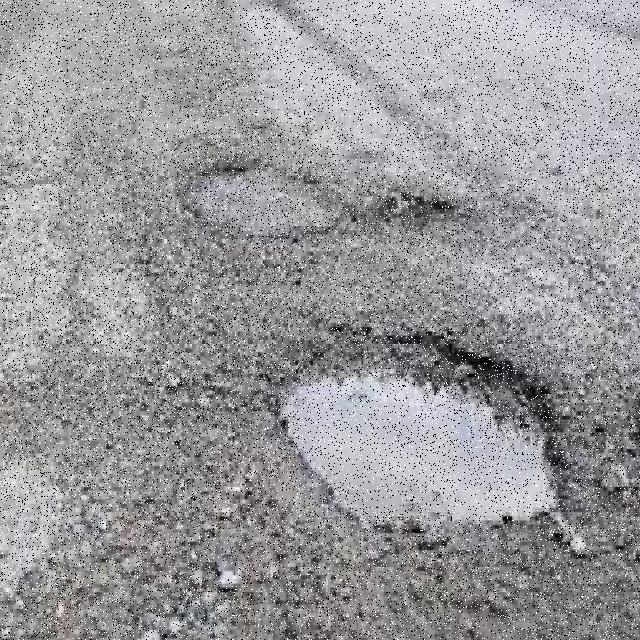pothole: (280, 336, 560, 533)
